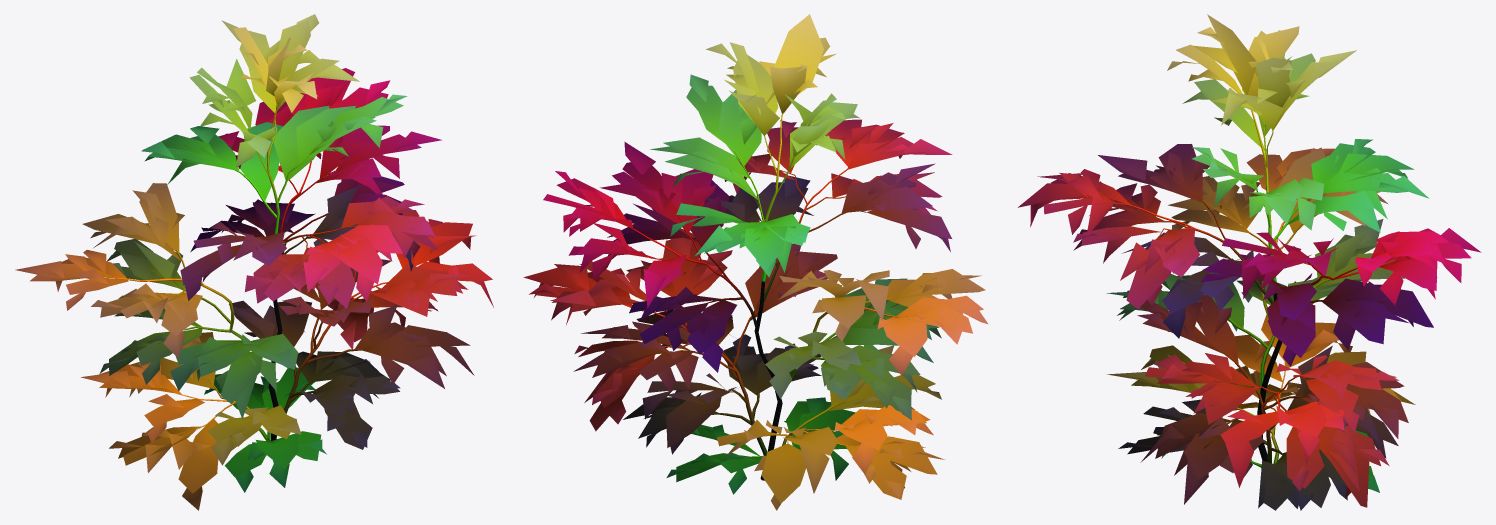
File: SM_EuropeanBeech_S_01.fbx
The picture shows the model from 3 angles, left to right: view 1: azimuth 30°, elevation 25°; view 2: azimuth 150°, elevation 25°; view 3: azimuth 270°, elevation 25°; orthographic projection. The views are drawn at different scales.
Visible parts, largest first — view 1: SM_EuropeanBeech_S_01_LOD0; view 2: SM_EuropeanBeech_S_01_LOD0; view 3: SM_EuropeanBeech_S_01_LOD0.
Boxes of the visible parts, box(x1,y1,x2,y2) form: SM_EuropeanBeech_S_01_LOD0: box(15, 14, 493, 510); SM_EuropeanBeech_S_01_LOD0: box(523, 14, 988, 510); SM_EuropeanBeech_S_01_LOD0: box(1018, 14, 1481, 510).
Size of the model in its own units: 341 by 287 by 331.
